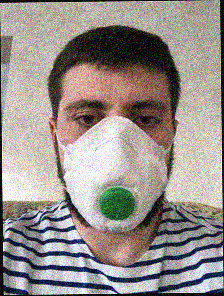with_mask: (59, 83, 172, 234)
